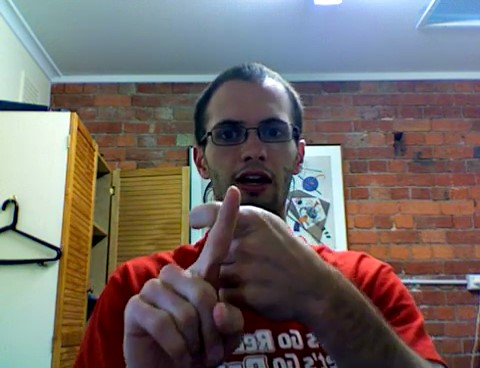K: (115, 181, 323, 368)
